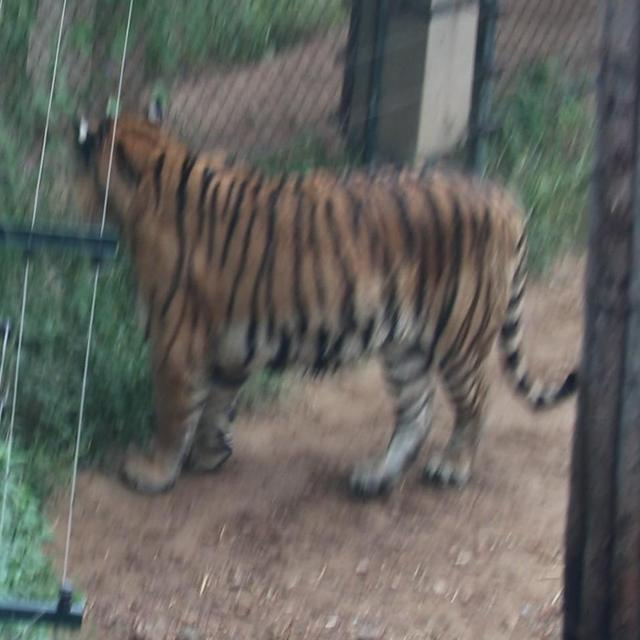tiger: (68, 107, 579, 501)
